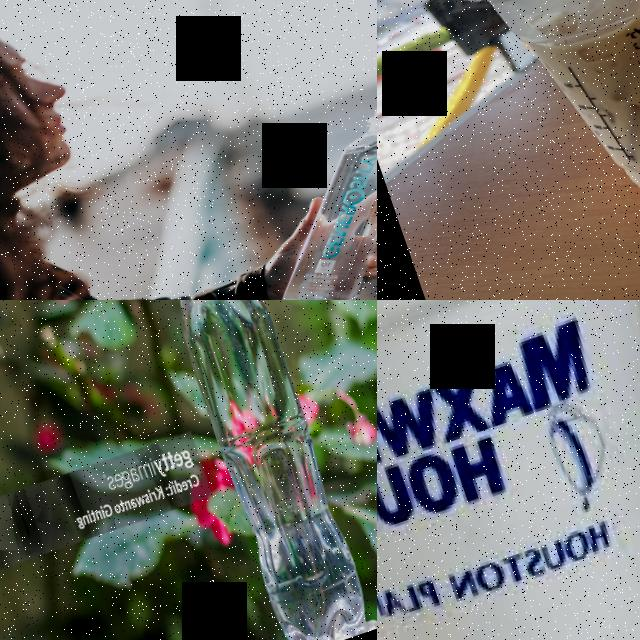bottle: (118, 300, 377, 640), (231, 95, 377, 300)
cup: (377, 300, 640, 640), (445, 0, 640, 248)
